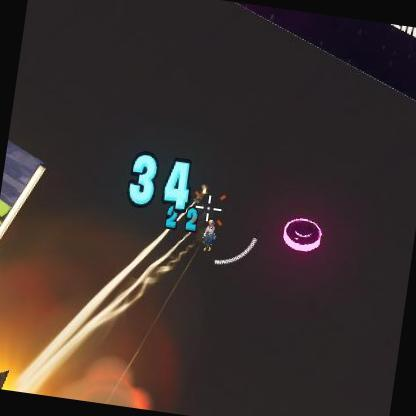person: (198, 215, 216, 251)
